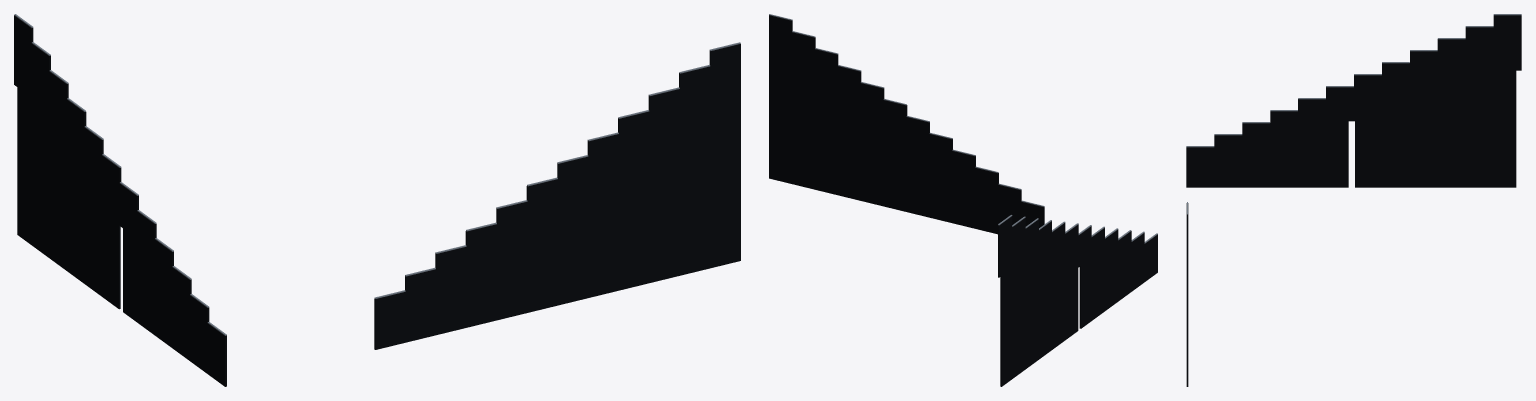
The model's file is tt_struct_f3_corner_cheeks_se.glb.
3 renders of one model, left to right at view 1: azimuth 30°, elevation 25°; view 2: azimuth 150°, elevation 25°; view 3: azimuth 270°, elevation 25°, orthographic. The views are drawn at different scales.
Visible parts, largest first — view 1: Cheek_Wall, Cheek_Cap; view 2: Cheek_Wall, Cheek_Cap; view 3: Cheek_Wall, Cheek_Cap.
Boxes of the visible parts, <box> form: Cheek_Wall: <box>14,15,740,386</box>; Cheek_Cap: <box>14,14,740,335</box>; Cheek_Wall: <box>769,15,1157,386</box>; Cheek_Cap: <box>769,14,1157,243</box>; Cheek_Wall: <box>1186,15,1521,386</box>; Cheek_Cap: <box>1186,14,1521,214</box>.
Size of what is drawn, in the model's own units: 16.09 by 6.5 by 11.4.
Materials: 2 (2 with a texture image).
